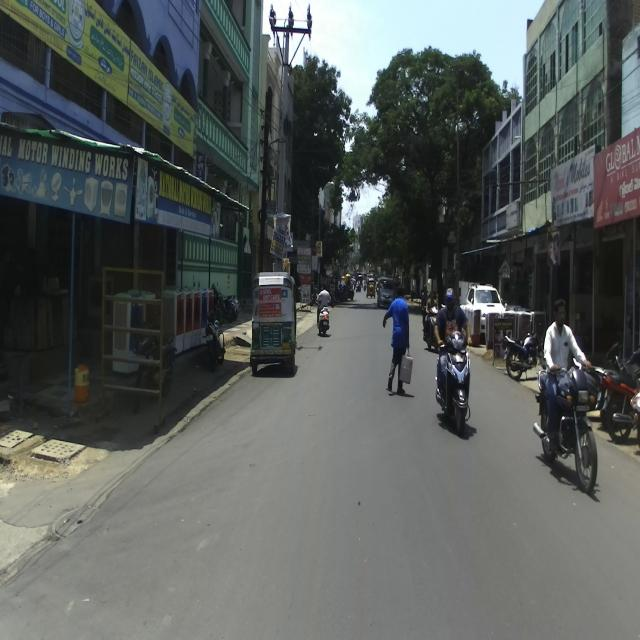high: (380, 272, 417, 419)
